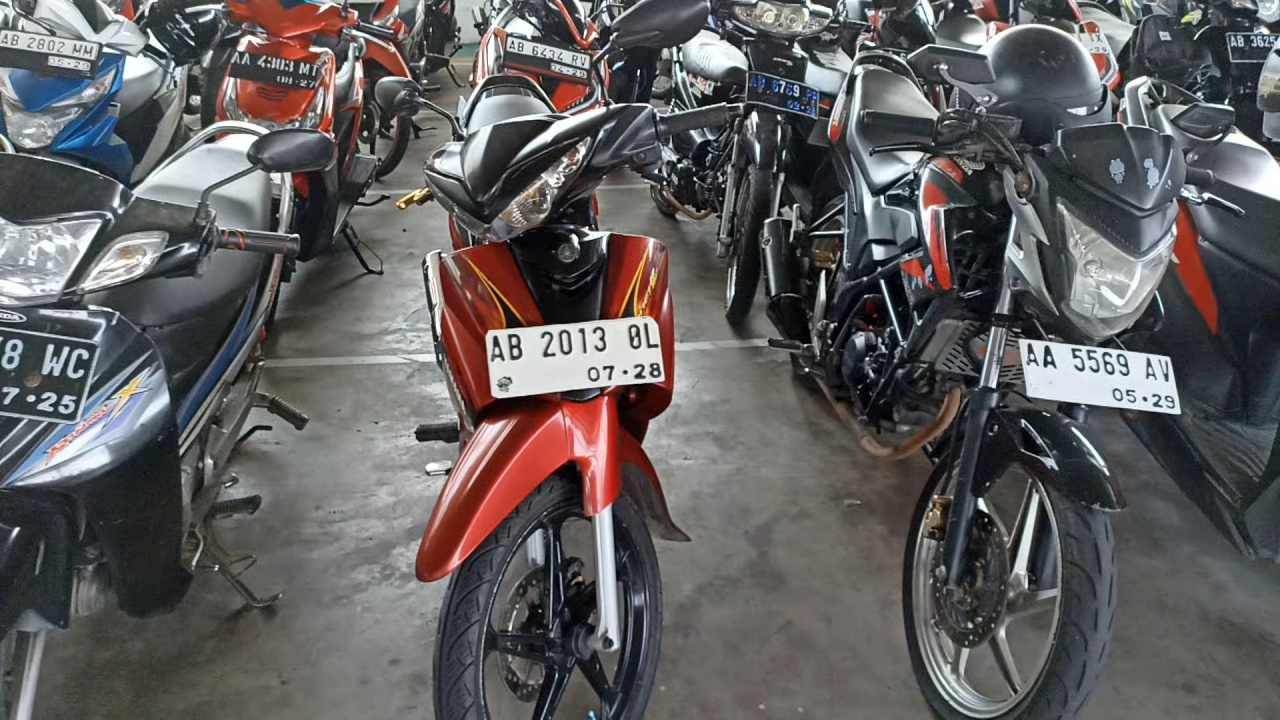plate: (485, 315, 665, 399), (1018, 339, 1182, 414), (0, 27, 103, 79), (505, 35, 591, 85), (228, 49, 319, 90), (747, 72, 819, 119)
